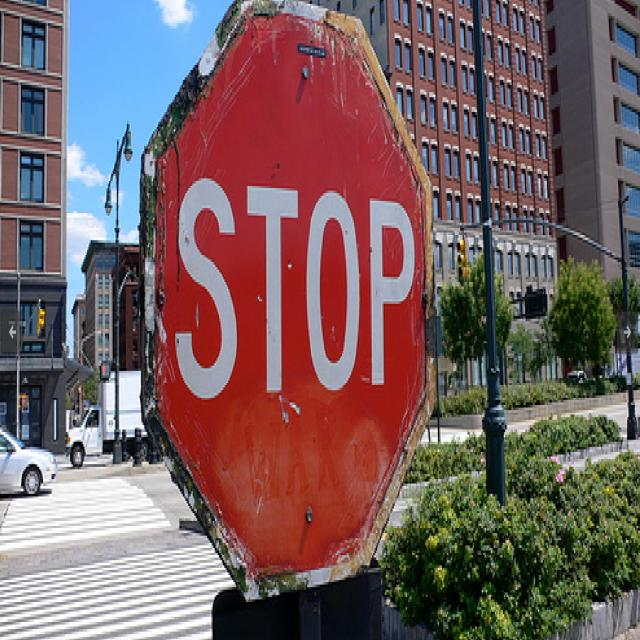STOP: (133, 1, 444, 582)
